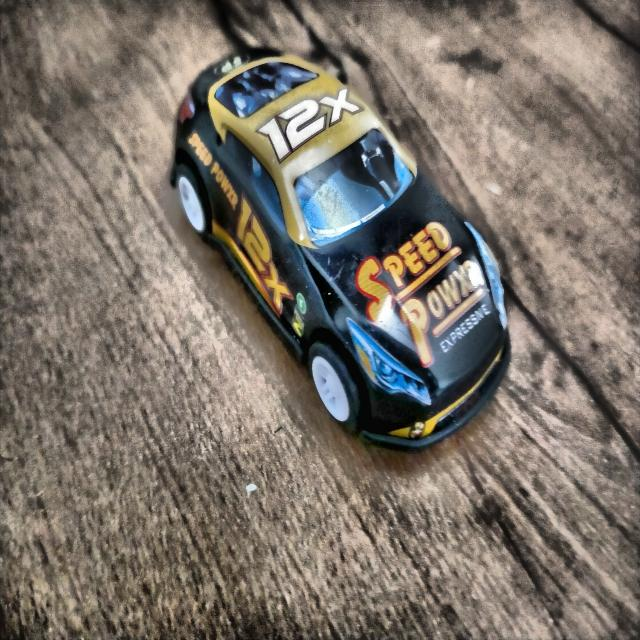Car: (162, 45, 511, 456)
